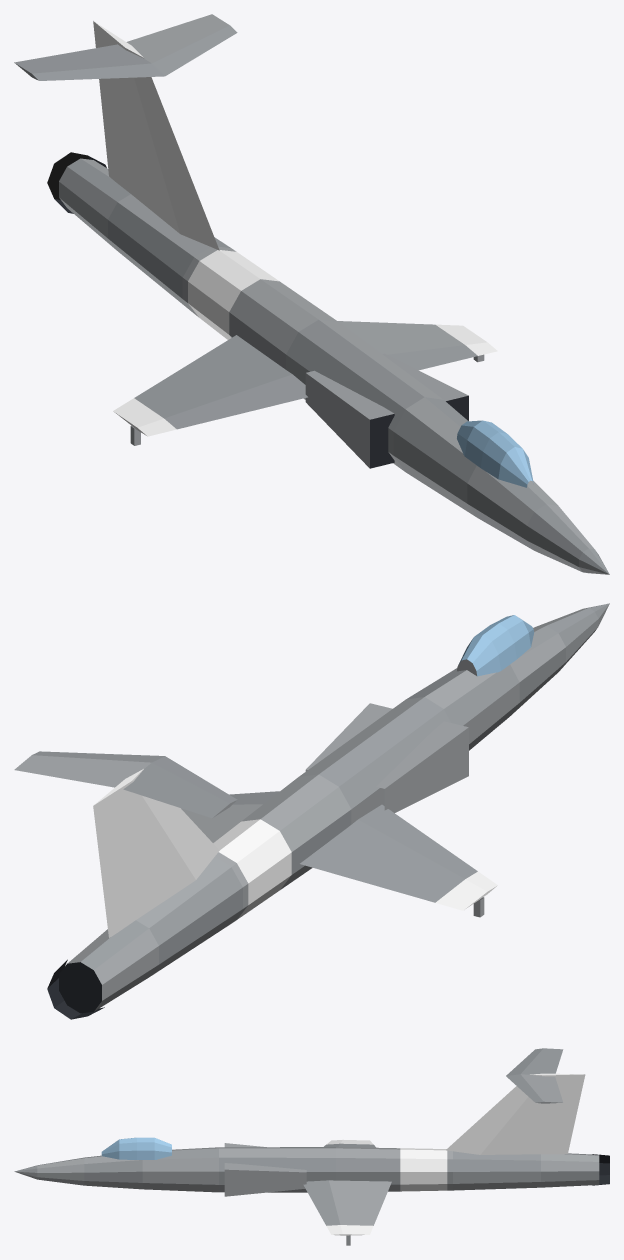
The picture shows the model from 3 angles, top to bottom: view 1: azimuth 30°, elevation 25°; view 2: azimuth 150°, elevation 25°; view 3: azimuth 270°, elevation 25°; orthographic projection. The views are drawn at different scales.
Visible parts, largest first — view 1: body; view 2: body; view 3: body.
Boxes of the visible parts, x1,y1,x2,y2 form: body: (14,14,609,574); body: (14,603,609,1019); body: (14,1048,609,1245).
Size of the model in its own units: 6.36 by 3.9 by 16.96.
